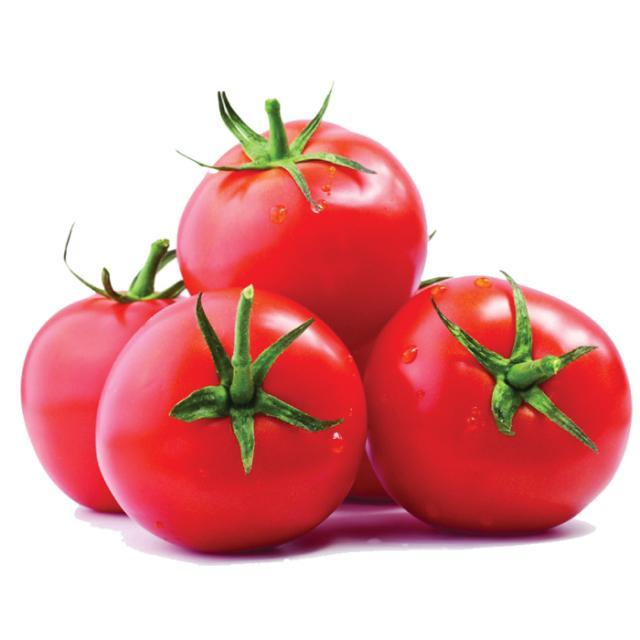kirmizi: (20, 94, 638, 598)
